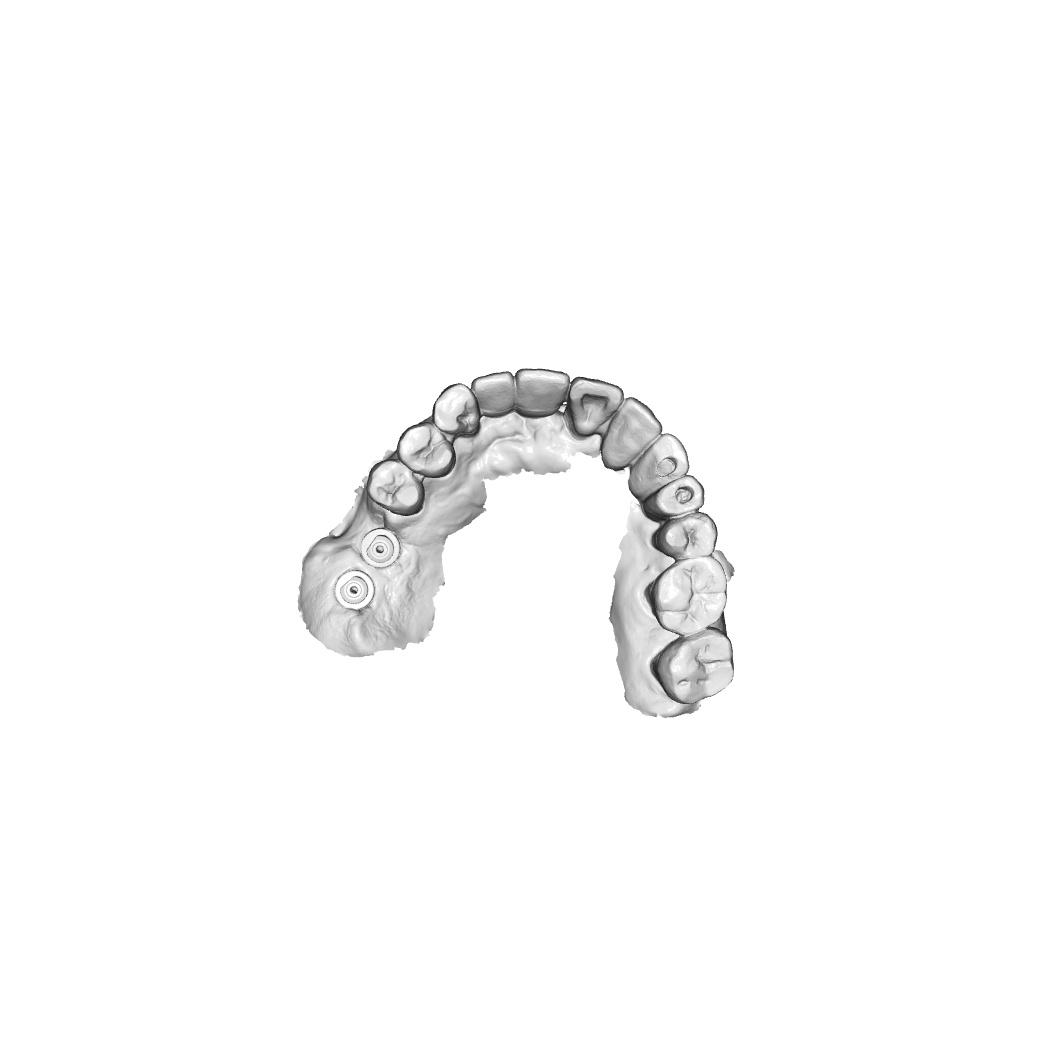canine: (629, 432, 691, 494), (431, 381, 482, 438)
implant: (334, 568, 376, 611), (360, 527, 402, 568)
incisor: (566, 375, 625, 438), (608, 395, 663, 459), (514, 366, 571, 420), (470, 369, 519, 419)
molar: (645, 555, 730, 638), (653, 627, 737, 706)
premolar: (365, 457, 426, 517), (396, 421, 458, 480), (649, 511, 720, 562), (641, 473, 706, 521)
